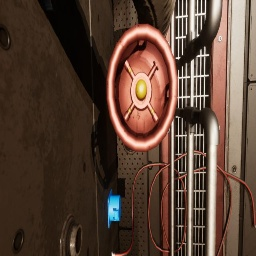NitrogenTank ,: (106, 24, 178, 152)
